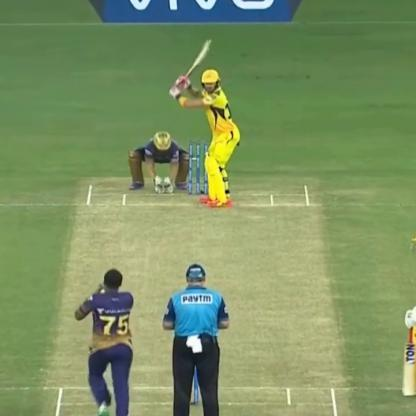bat: (172, 36, 217, 92)
pitch: (38, 174, 362, 416)
